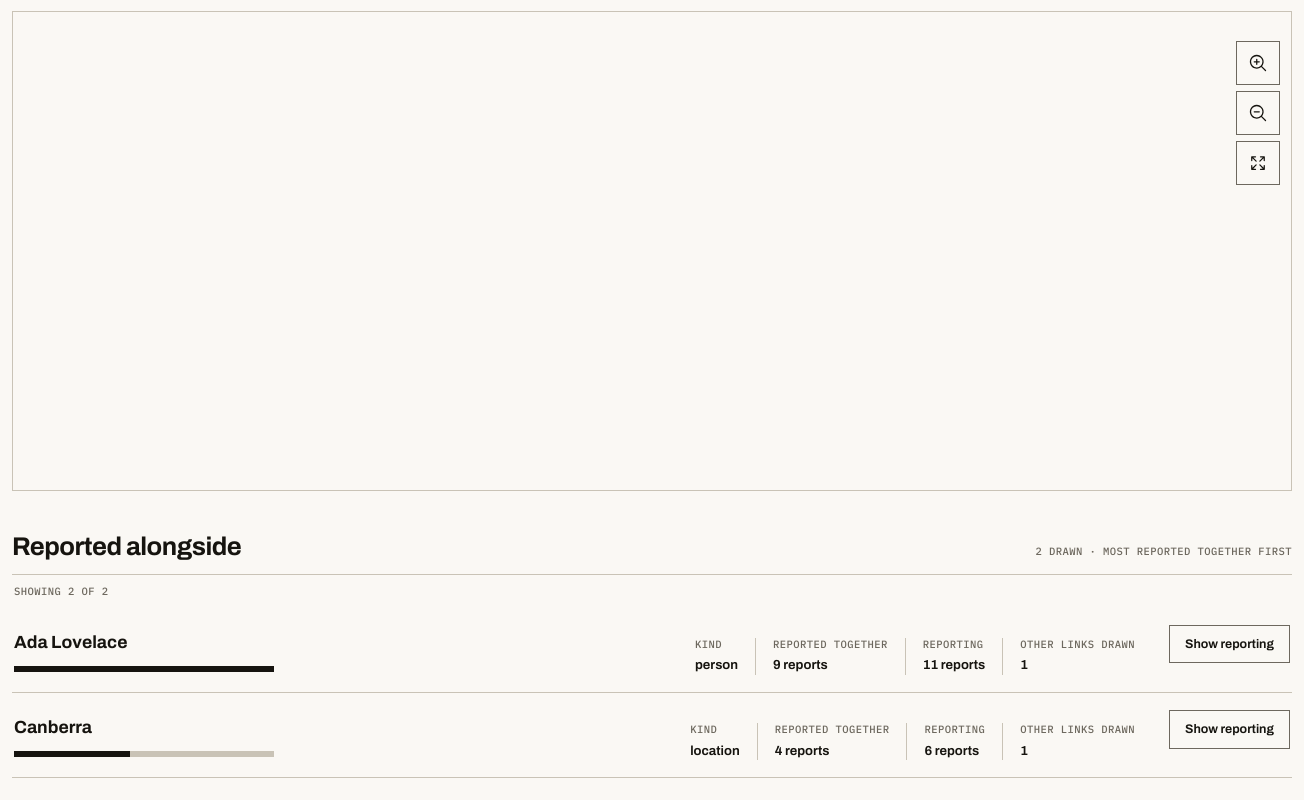
Test: An Entity's neighbourhood — the reporting under one link › opens the Articles a link was observed in, each linking to somewhere it can be read
(page scrolled)
Click the button "Show reporting" in the row of "Ada Lovelace" at (1230, 644), box left=1169, top=625, right=1290, bottom=663
(page scrolled)
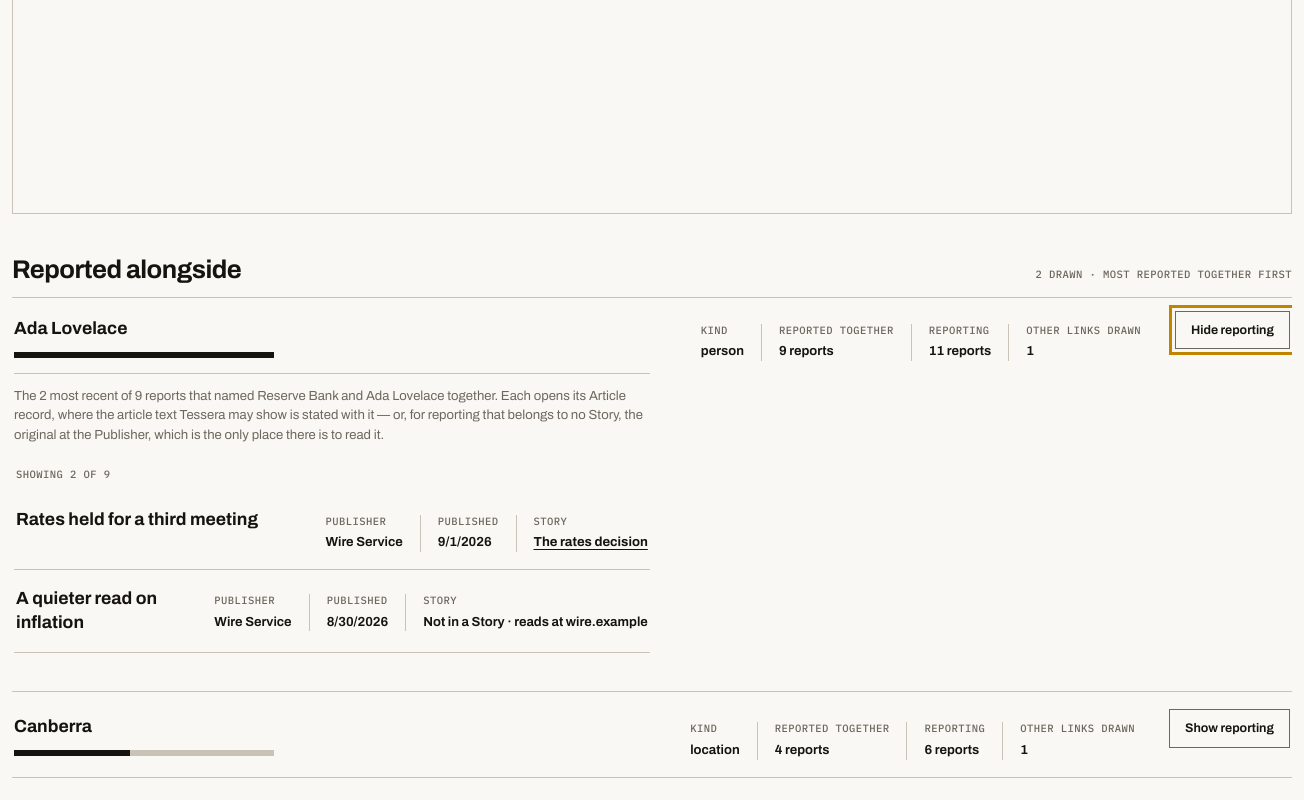
Now the list item that starts with "Rates held for a third meeting" shows "Wire Service", box left=325, top=534, right=403, bottom=549
Now the list item that starts with "A quieter read on inflation" shows "Not in a Story · reads at wire.example", box left=423, top=614, right=648, bottom=628
